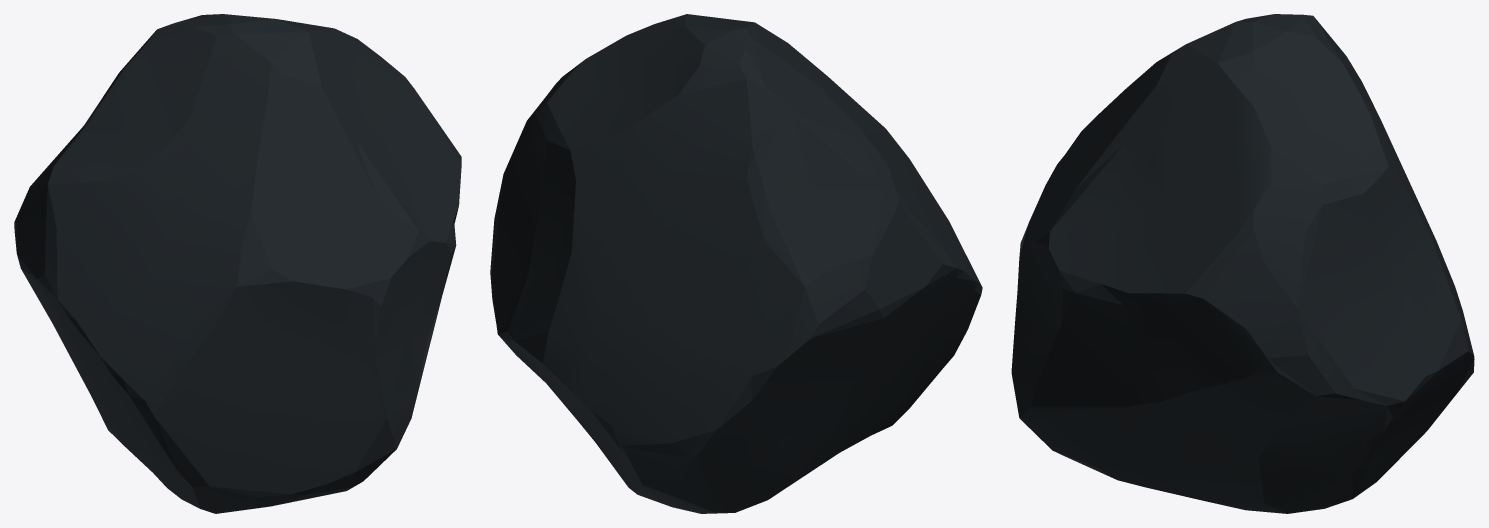
The model's file is Asteroid_m_01.FBX.
3 views of the same model, side by side, from view 1: azimuth 30°, elevation 25°; view 2: azimuth 150°, elevation 25°; view 3: azimuth 270°, elevation 25° (orthographic). The views are drawn at different scales.
Visible parts, largest first — view 1: Asteroid_m_01; view 2: Asteroid_m_01; view 3: Asteroid_m_01.
Part boxes in pixels (left/top/right/bottom): Asteroid_m_01: left=14, top=14, right=461, bottom=513; Asteroid_m_01: left=490, top=14, right=982, bottom=513; Asteroid_m_01: left=1011, top=14, right=1474, bottom=513.
Size of the model in its own units: 931 by 958 by 866.
